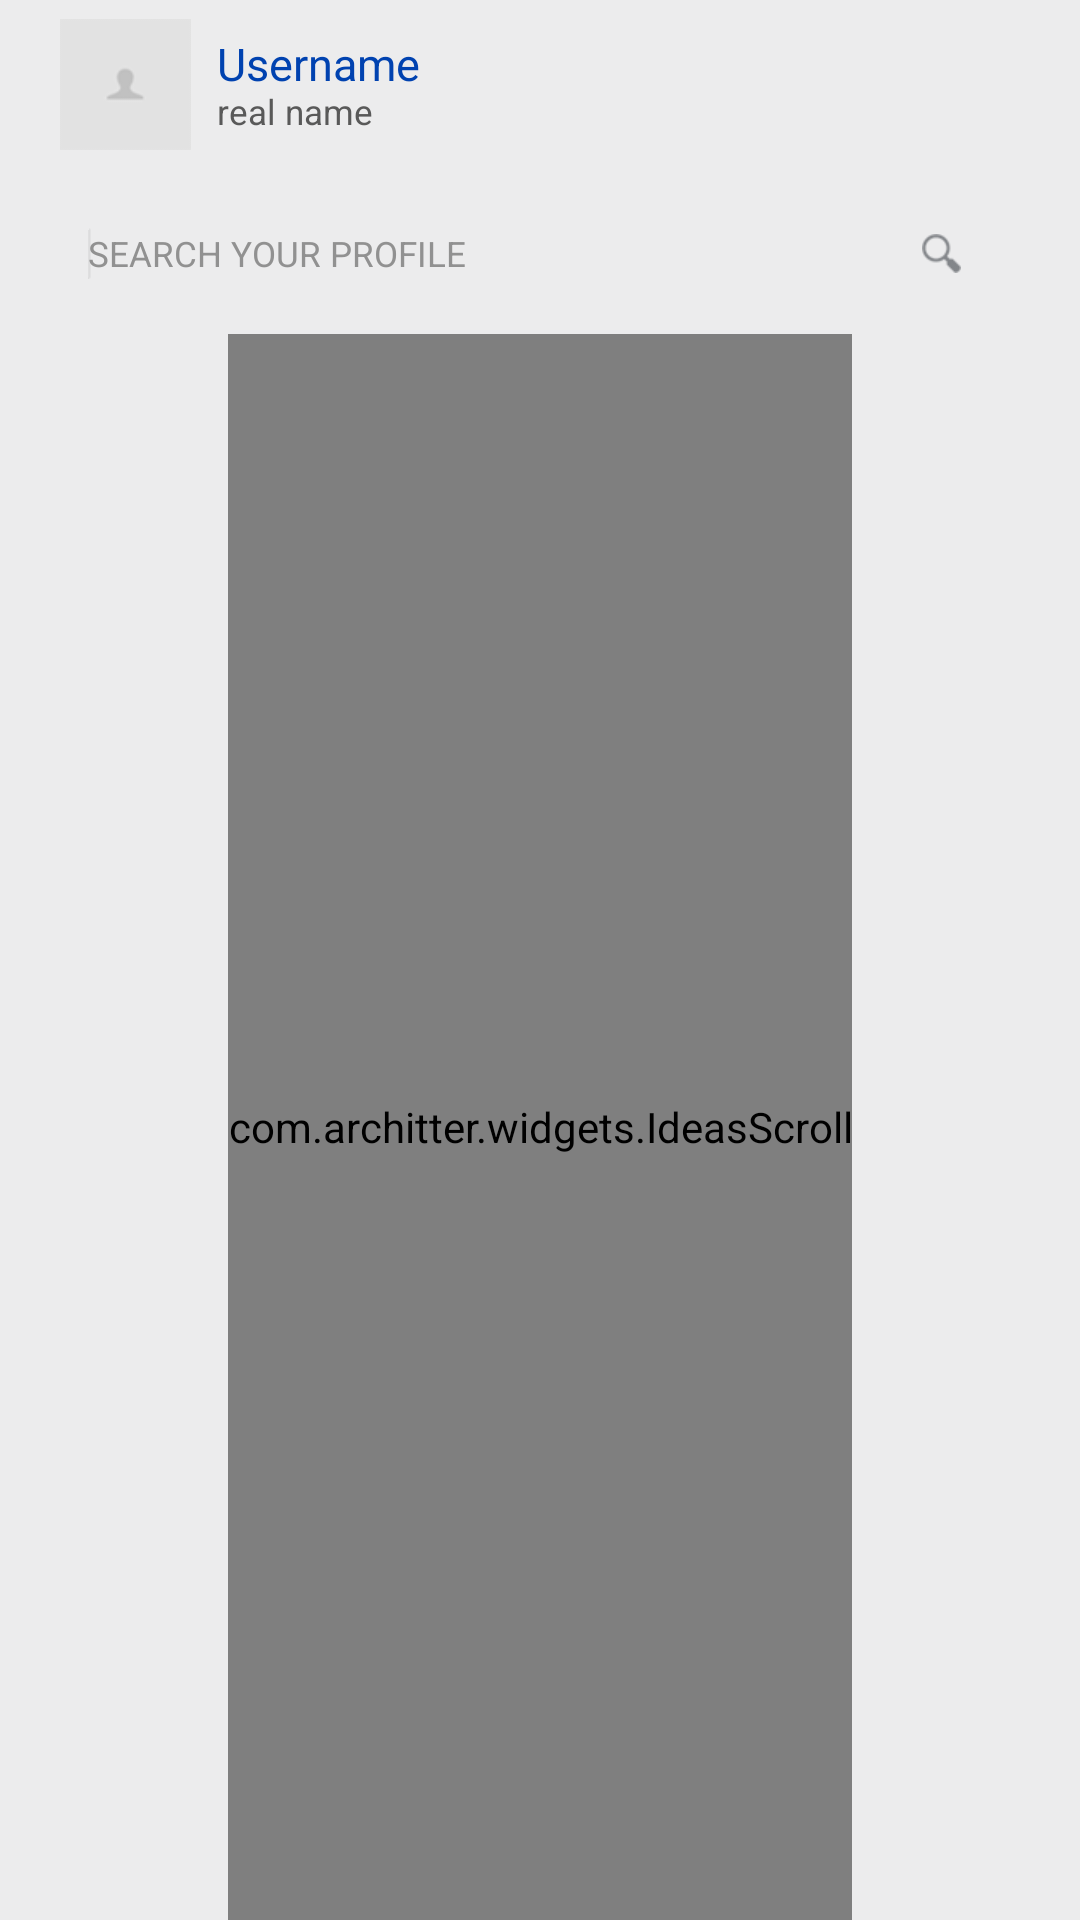

Icons on this 1080 × 1920 Android screen, each with the point to tap as point (x, y):
profile pic: point (125, 84)
